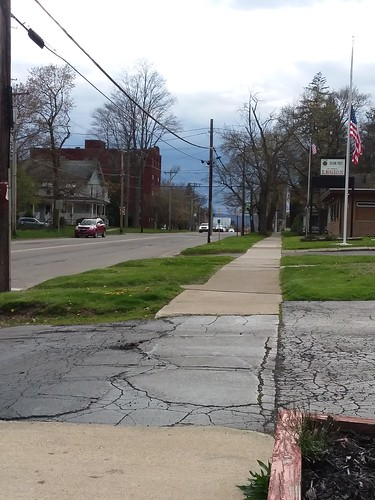building: (83, 147, 168, 228), (55, 166, 110, 230), (331, 173, 375, 244)
car: (75, 212, 113, 244)
flag: (338, 105, 366, 169)
grass: (34, 257, 219, 318), (278, 252, 375, 304), (187, 231, 268, 251)
sky: (17, 1, 372, 96)
street: (1, 232, 208, 280)
tree: (107, 68, 186, 229), (19, 63, 81, 234), (285, 69, 349, 232), (215, 96, 286, 232)
